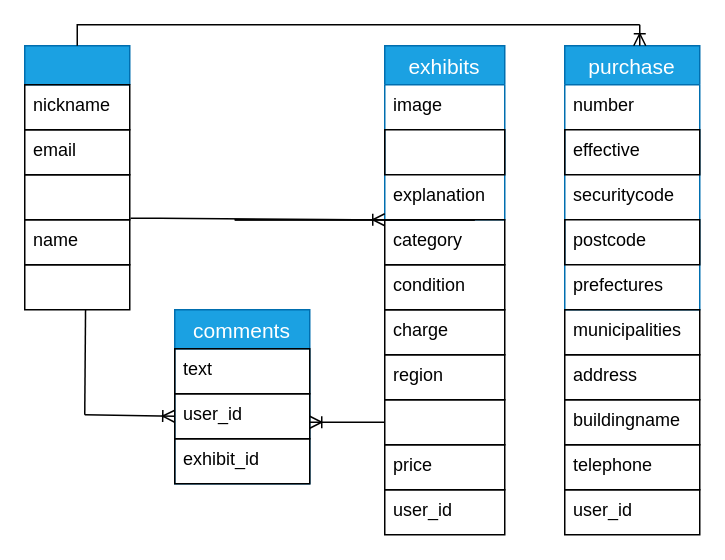
The diagram is 725 pixels wide and 560 high, and some of its shapes have lost their labels. Each missing label, with the centre of its shape:
"date" belongs at (76,286).
"days" belongs at (444,421).
"password" belongs at (76,196).
"productname" belongs at (444,151).
"users" belongs at (76,64).
